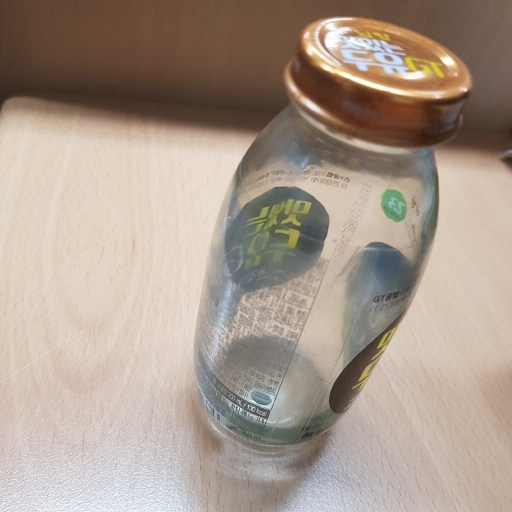Glass_4: (184, 1, 483, 482)
